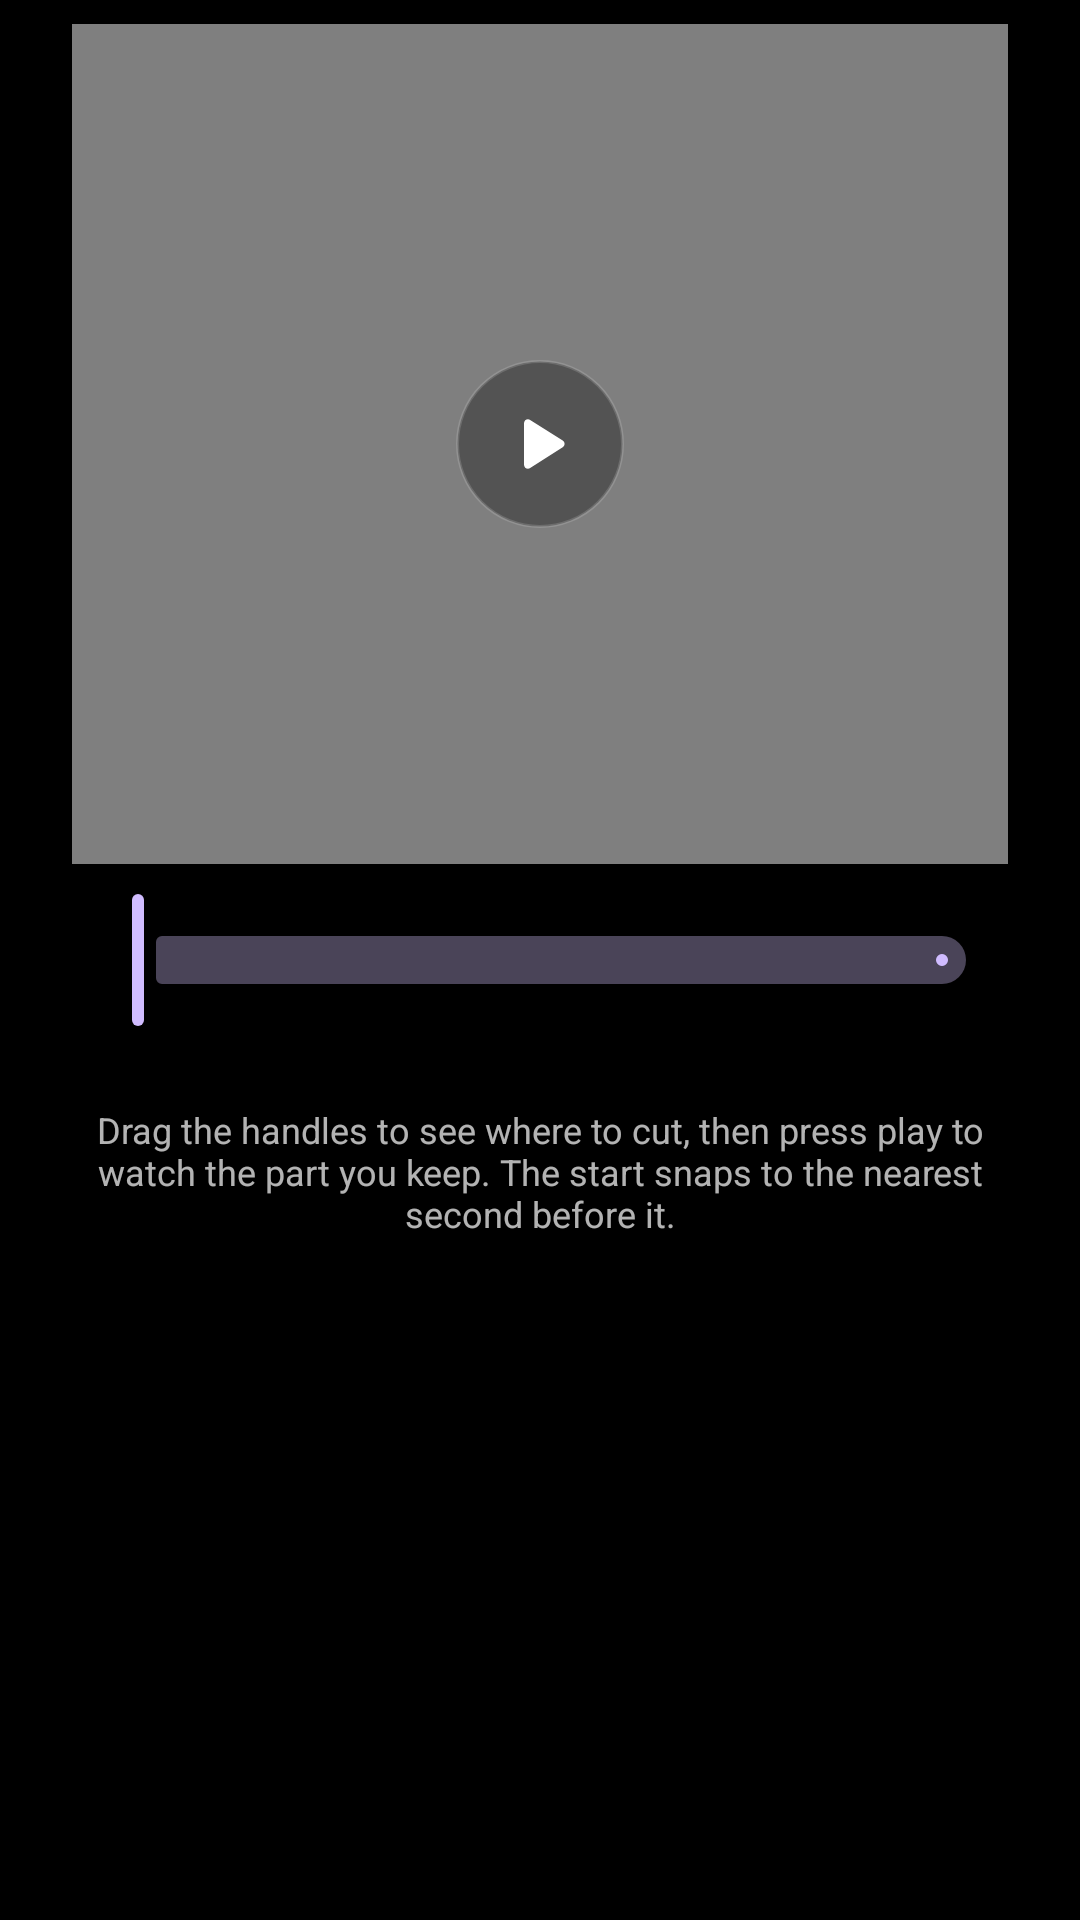

Point at icon controls on the screen. Image size 1080 × 1920, points as [x,y].
Play the part you keep: [540,444]
